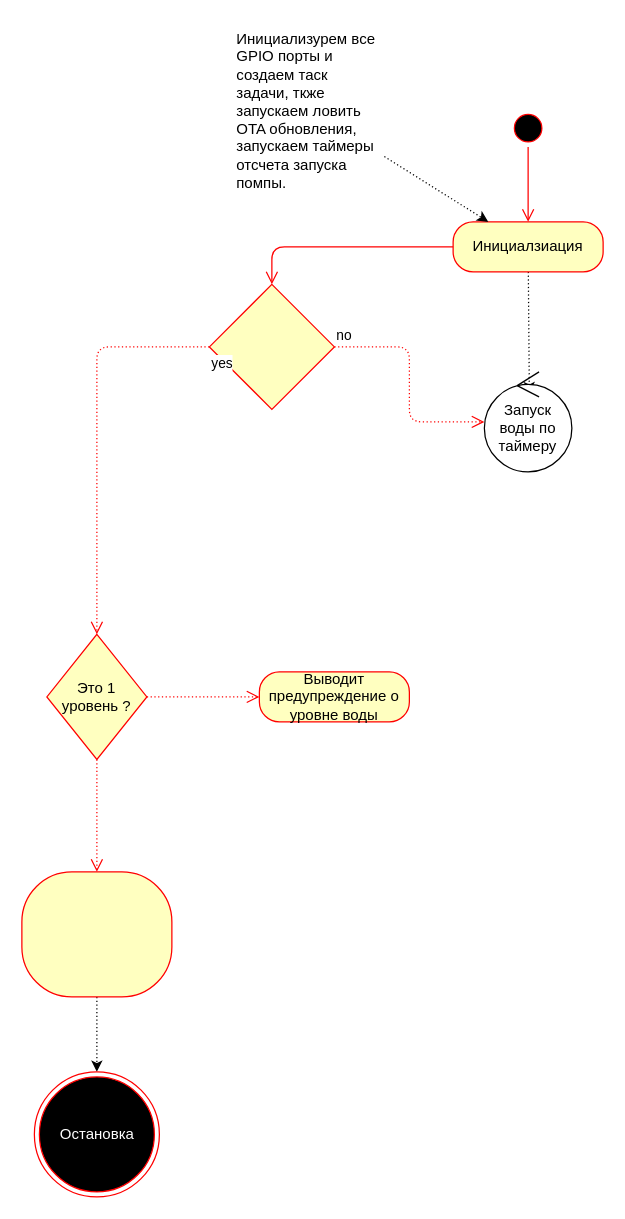
Some shapes in this 625 by 1219 pixel diagram are drawn without their labels. Each missing label, with the centre of its shape:
"Останавливаем работу насоса и выводит индикацию + уведомления" belongs at (x=96, y=934).
"Сработал 1 из уровней" belongs at (x=271, y=346).
